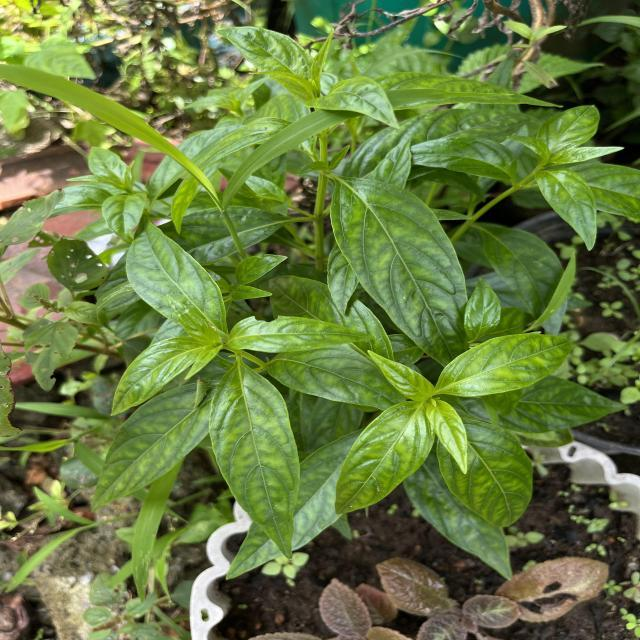Andrographis paniculata: (328, 174, 466, 364), (205, 360, 302, 566), (90, 382, 209, 514), (122, 214, 228, 332), (334, 400, 434, 516), (436, 418, 534, 528), (436, 332, 574, 398), (109, 334, 202, 416), (229, 314, 378, 355), (533, 166, 599, 252), (366, 348, 434, 400), (428, 398, 472, 475)
